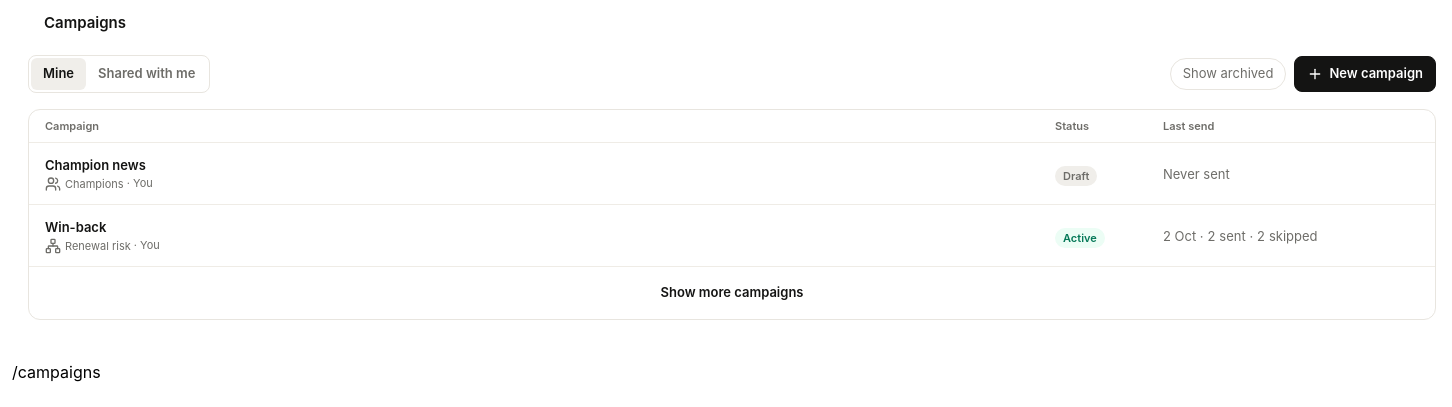
Test case: /campaigns (spec §2.1) › reads the next page with Show more campaigns
Click the button "Show more campaigns". click: (732, 293)
box: [45,275,1419,311]
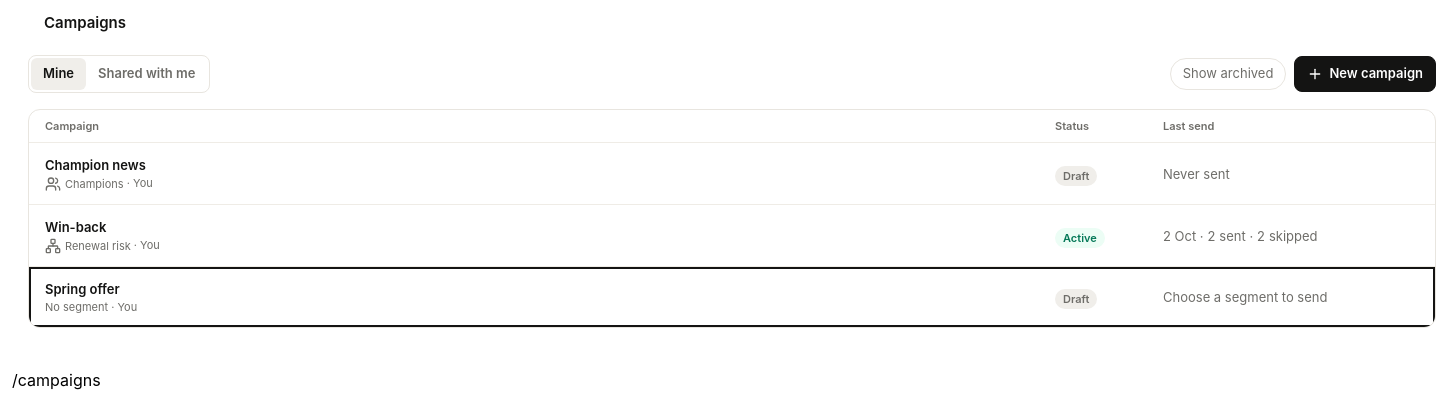
Expected: the button "Show more campaigns" is gone
